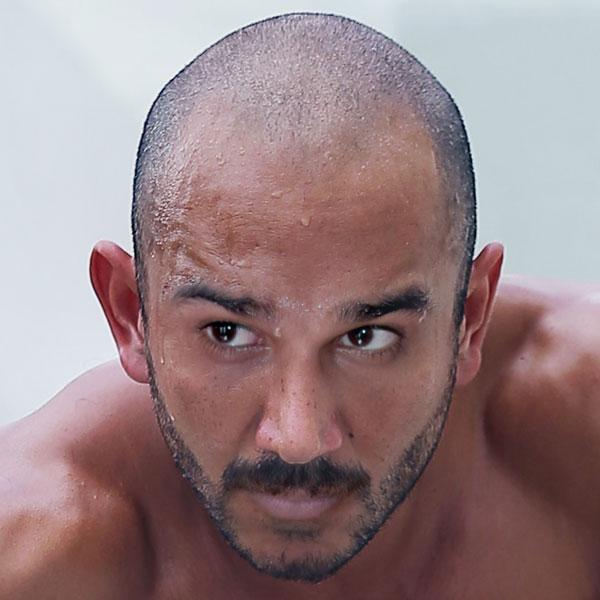Eyes: (191, 309, 271, 364), (324, 316, 409, 365)
